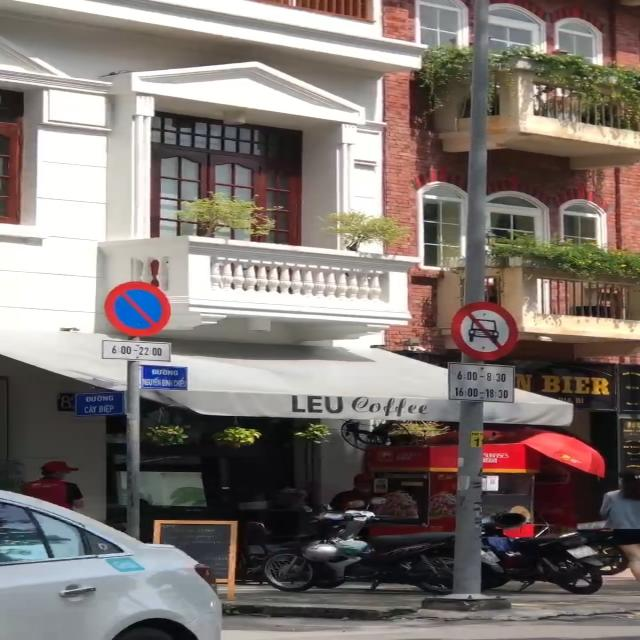Bien bao cam do xe: (96, 275, 177, 341)
Bien bao cam xe oto: (447, 294, 527, 361)
